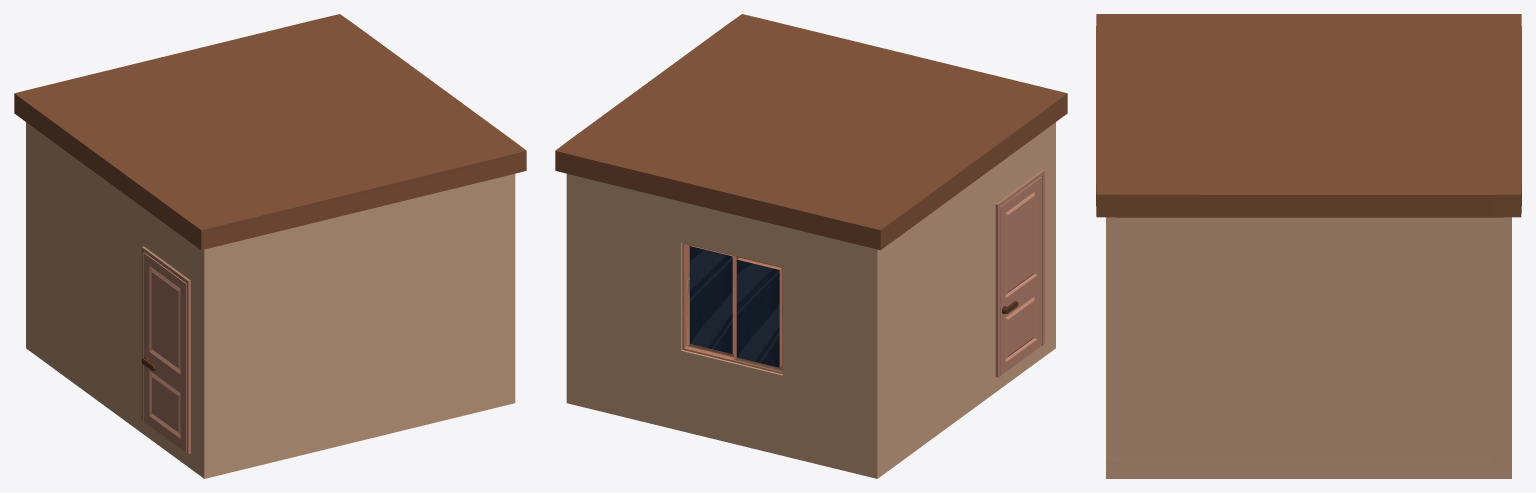
The model's file is room3d.glb.
3 renders of one model, left to right at view 1: azimuth 30°, elevation 25°; view 2: azimuth 150°, elevation 25°; view 3: azimuth 270°, elevation 25°, orthographic. The views are drawn at different scales.
Visible parts, largest first — view 1: Habitacion, Habitacion.003, Habitacion.001; view 2: Habitacion, Habitacion.003, Habitacion.001, Habitacion.002; view 3: Habitacion, Habitacion.003.
Boxes of the visible parts, x1=… form: Habitacion: x1=14, y1=98, x2=526, y2=478; Habitacion.003: x1=14, y1=14, x2=526, y2=234; Habitacion.001: x1=141, y1=246, x2=190, y2=453; Habitacion: x1=555, y1=98, x2=1067, y2=478; Habitacion.003: x1=555, y1=14, x2=1067, y2=234; Habitacion.001: x1=995, y1=170, x2=1044, y2=377; Habitacion.002: x1=690, y1=246, x2=779, y2=367; Habitacion: x1=1096, y1=188, x2=1521, y2=478; Habitacion.003: x1=1096, y1=14, x2=1521, y2=199.
Bounding box in the file's own units: 10.54 × 7.84 × 10.49.
44 materials, 1 textured.
